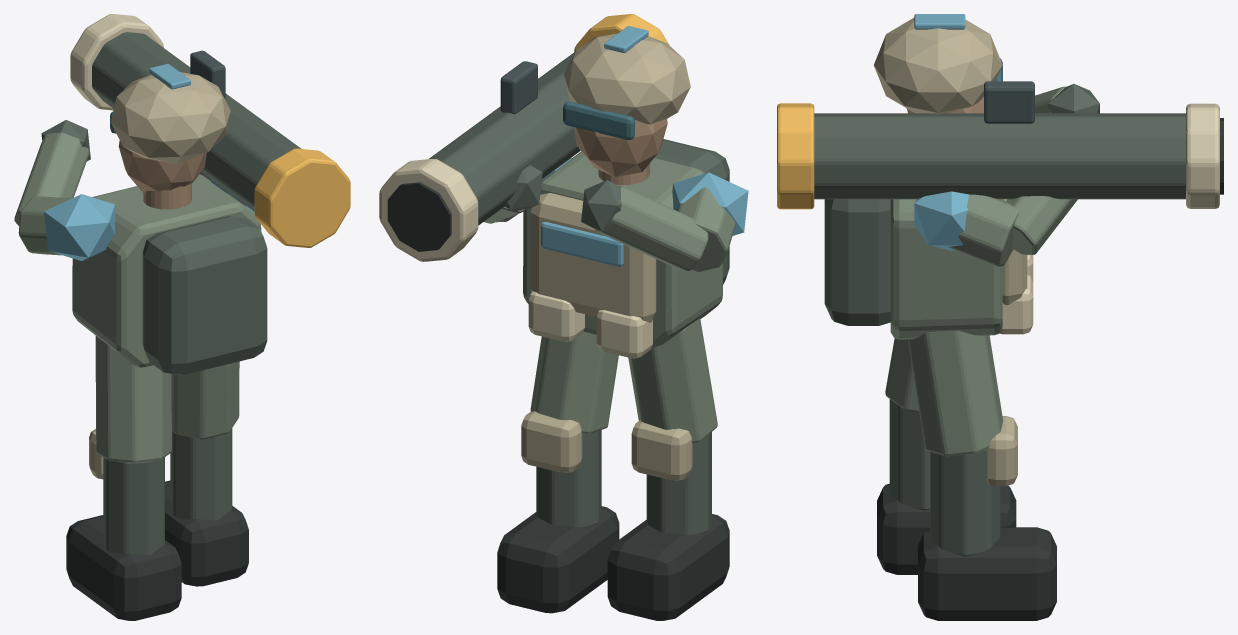
Rendered from rocket.glb.
The picture shows the model from 3 angles, left to right: view 1: azimuth 30°, elevation 25°; view 2: azimuth 150°, elevation 25°; view 3: azimuth 270°, elevation 25°; orthographic projection. The views are drawn at different scales.
Parts seen in each view (by area): view 1: body; view 2: body; view 3: body.
Boxes of the visible parts, bbox=[...] form: body: bbox=[14, 14, 350, 620]; body: bbox=[379, 14, 748, 620]; body: bbox=[777, 14, 1223, 620].
Bounding box in the file's own units: 0.9204 × 1.85 × 1.32.
